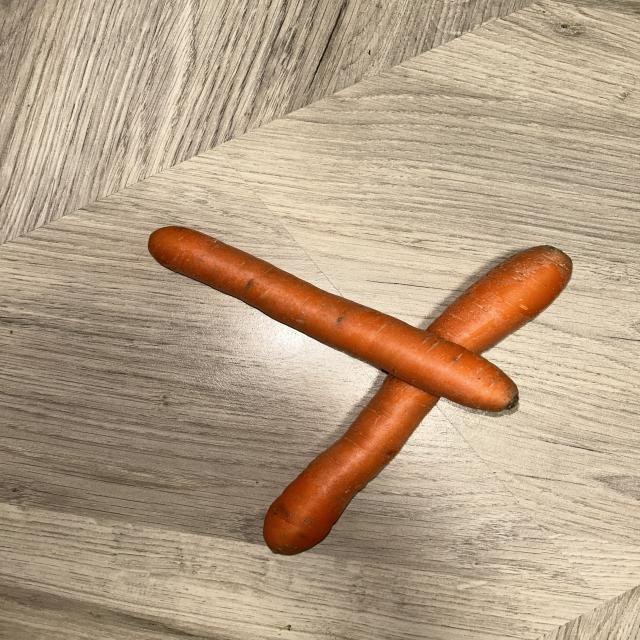carrot: (263, 375, 438, 555), (263, 375, 438, 555), (427, 245, 573, 354)
